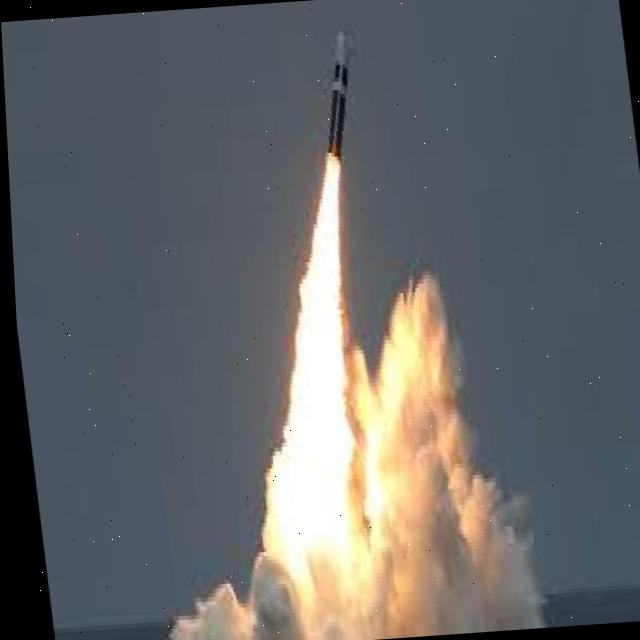missile: (310, 25, 367, 165)
